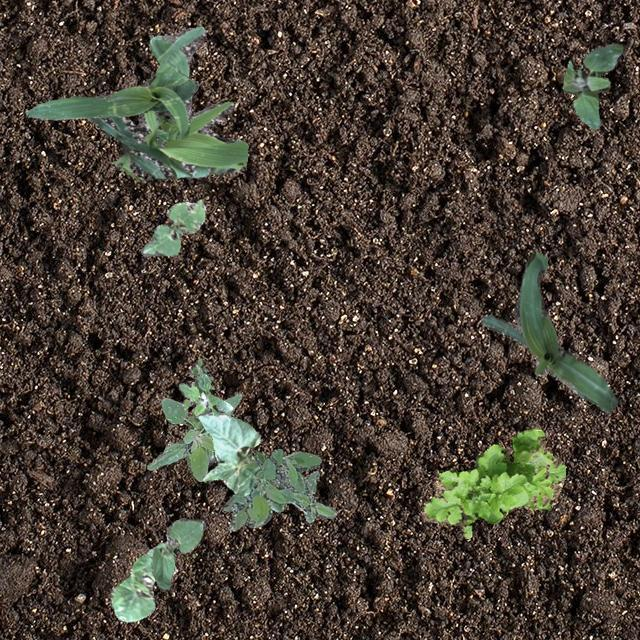crop: (88, 24, 248, 178), (481, 252, 616, 412), (24, 60, 198, 146), (196, 409, 282, 512), (146, 392, 240, 481), (110, 542, 164, 620), (150, 518, 204, 590), (140, 198, 206, 256)
weed: (420, 428, 566, 538), (220, 448, 336, 530), (562, 42, 622, 128), (178, 358, 232, 416)
